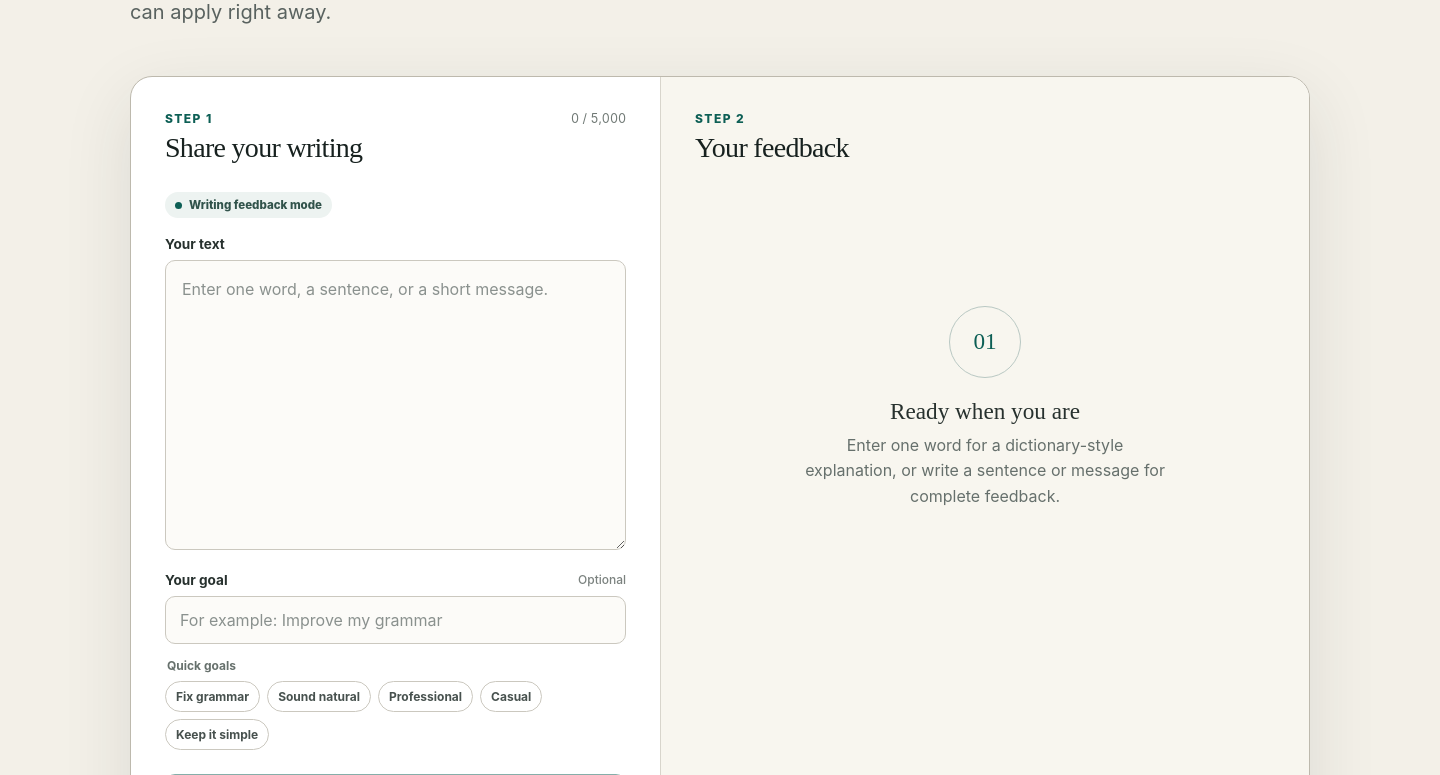
Test: Writing Coach interactions › shows the complete writing result and collapsible learning sections
This screenshot has width=1440, height=775.
(page scrolled)
Type "I go supermarket yesterday." into the text box labelled "Your text" at (396, 405), box [165,260,626,550]
(page scrolled)
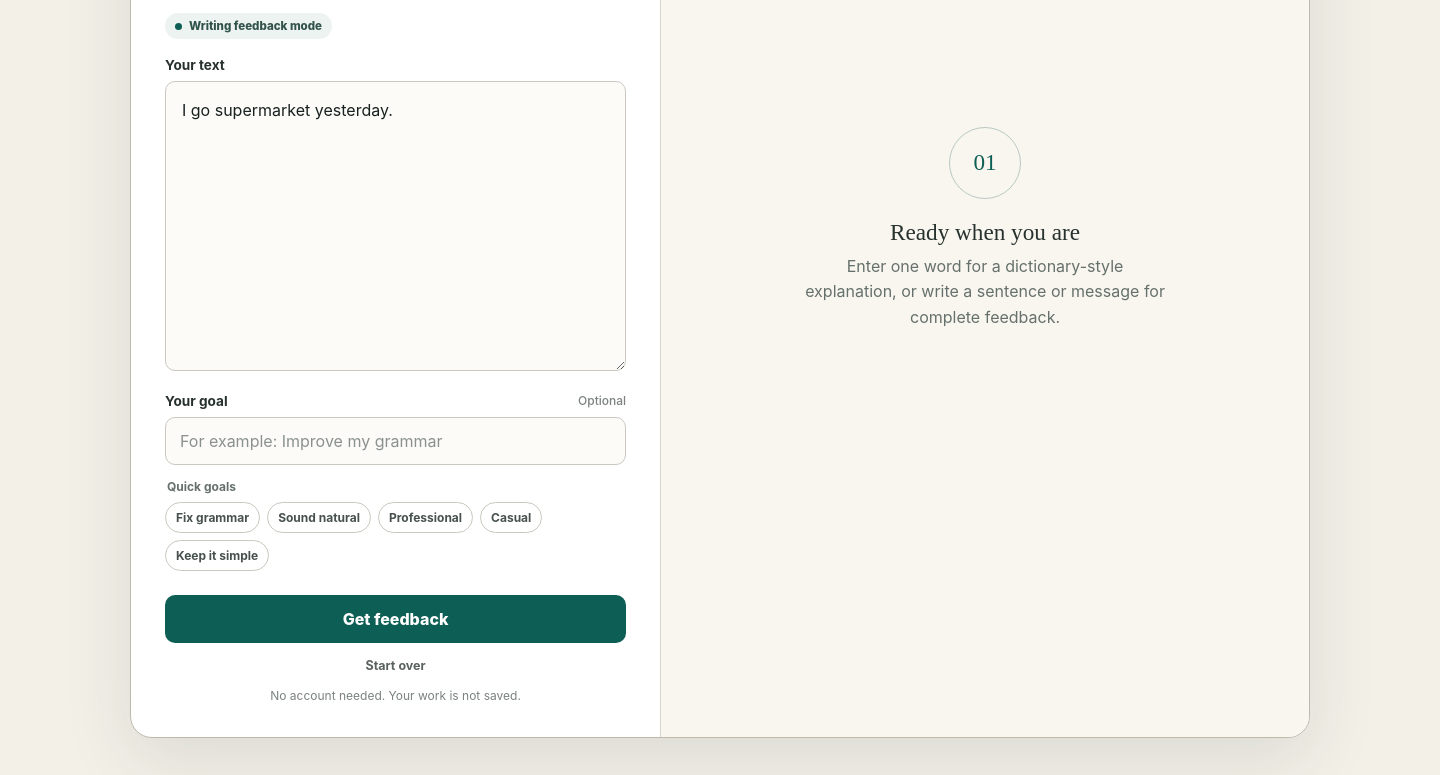
Click the button "Get feedback" at (396, 619), box [165,595,626,643]
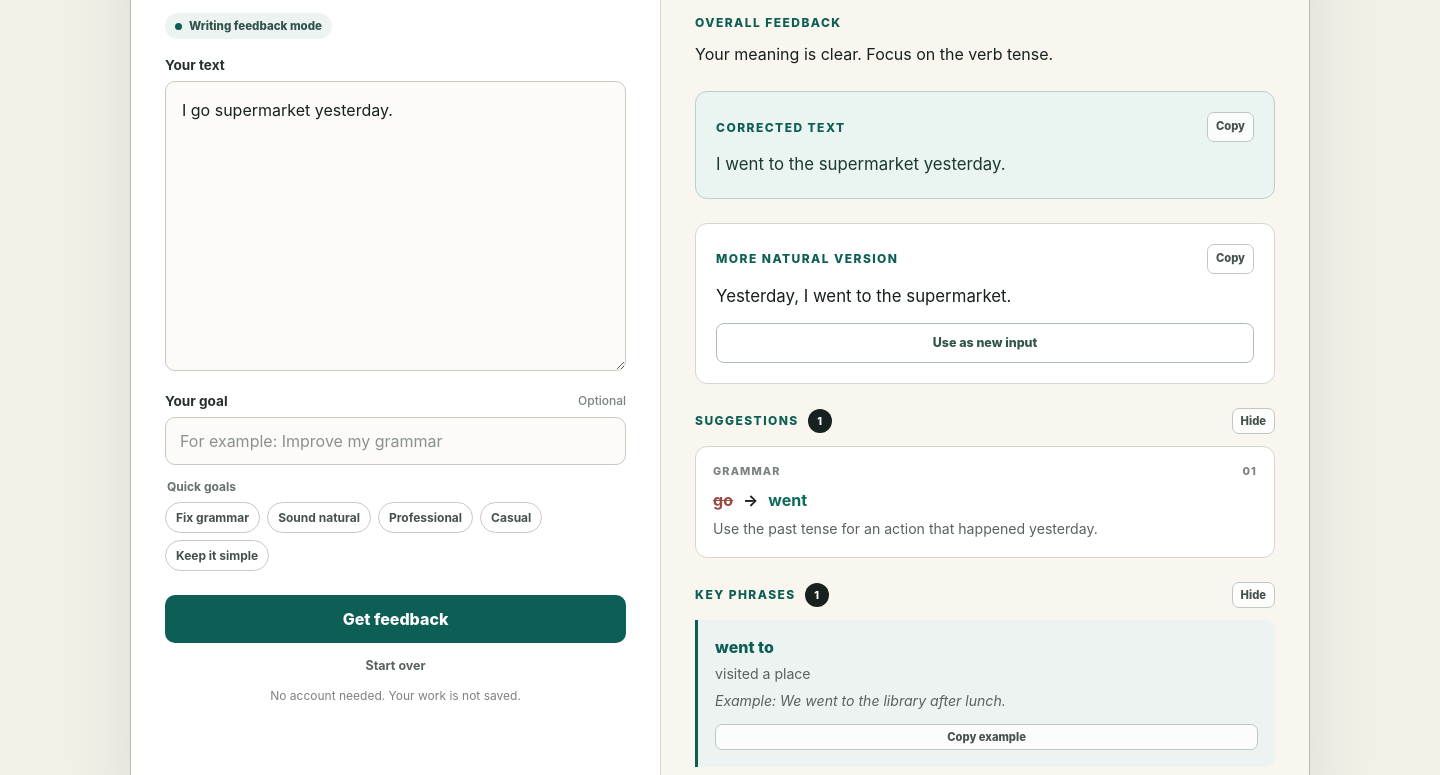
Result: the text "Corrected text" is shown at [716,118,846,137]
Result: the text "More natural version" is shown at [716,249,898,269]
Result: the text "Suggestions" is shown at [695,413,799,428]
Click the button "Hide" in the row of "Suggestions" at (1253, 421), box [1232,408,1275,434]
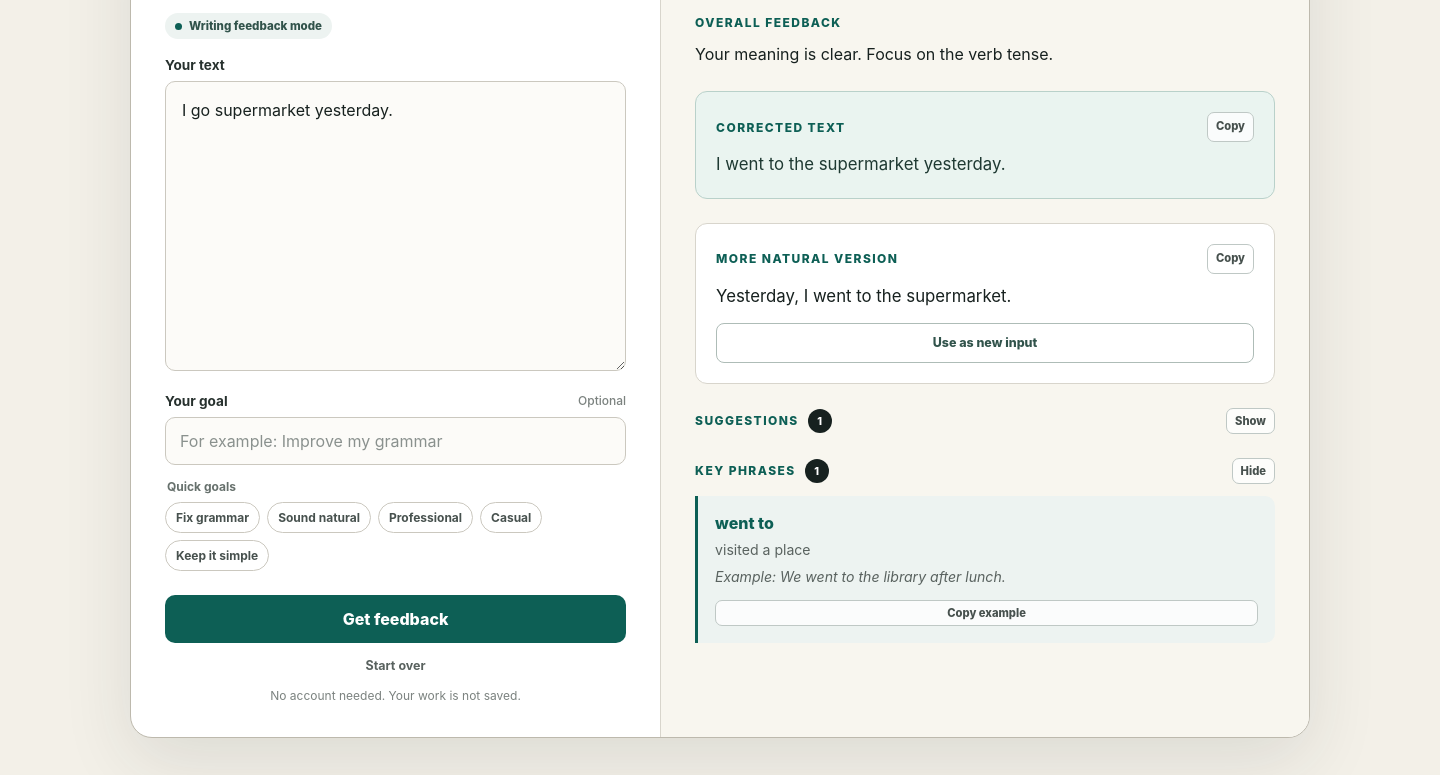
Result: the text "Use the past tense for an action that happened yesterday." is gone
Result: the button "Show" is collapsed at [1226,408,1275,434]
